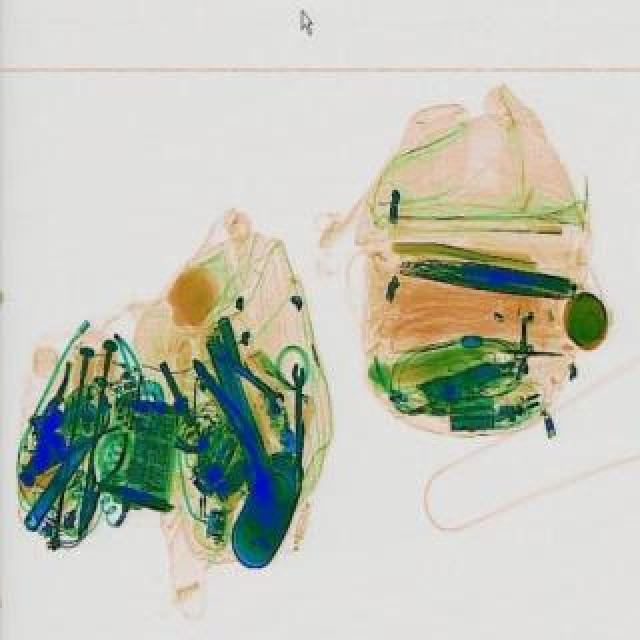scissors: (206, 340, 290, 416), (288, 360, 304, 480)
wrench: (62, 420, 132, 540), (184, 352, 258, 444)
